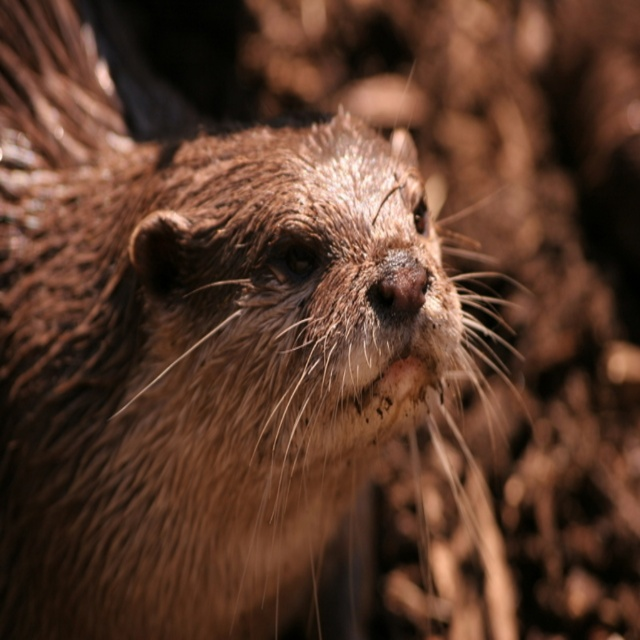Otter: (0, 0, 536, 640)
